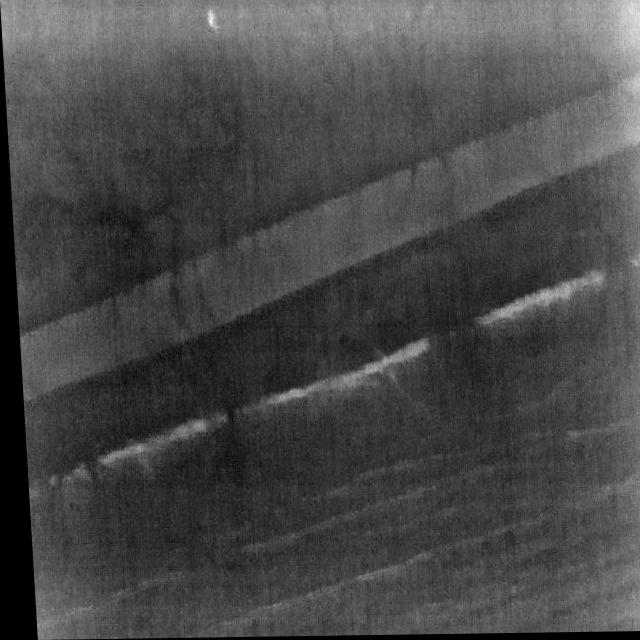deer: (206, 8, 220, 33)
